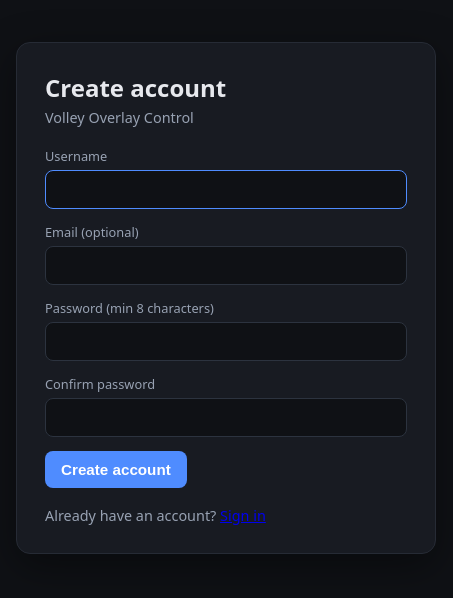
it: RegisterPage submit flows › shows the generic failure copy for other errors
Type " bob " into the field labelled "Username" at (226, 190), box [45,170,407,209]
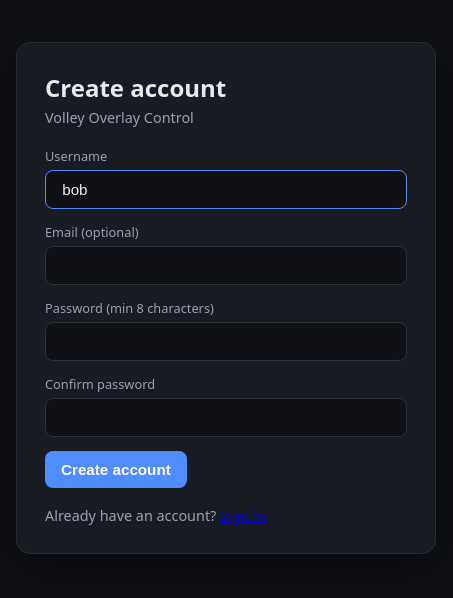
Type " bob@example.com " into the field labelled "Email (optional)" at (226, 266), box [45,246,407,285]
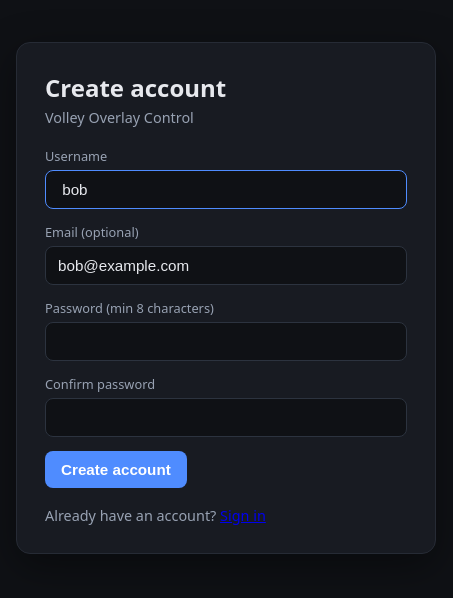
Type "secret123" into the password field labelled "Password (min 8 characters)" at (226, 342), box [45,322,407,361]
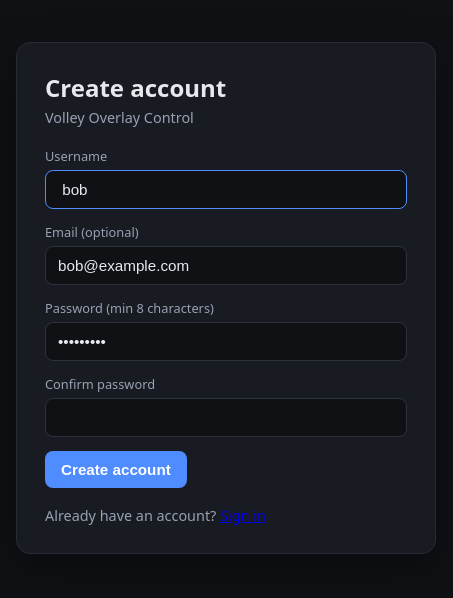
Type "secret123" into the password field labelled "Confirm password" at (226, 418), box [45,398,407,437]
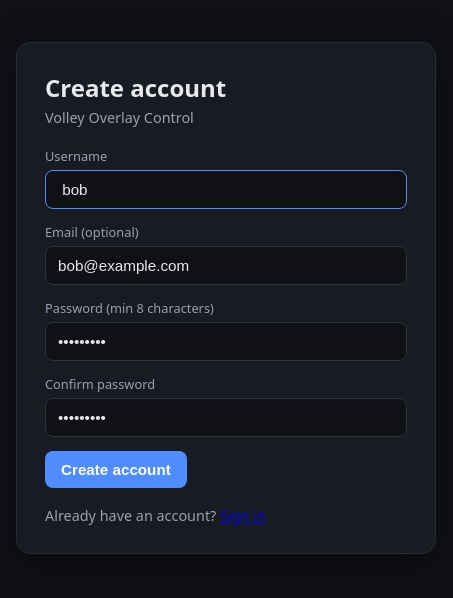
Click the button "Create account" at (116, 470), box [45,451,187,488]
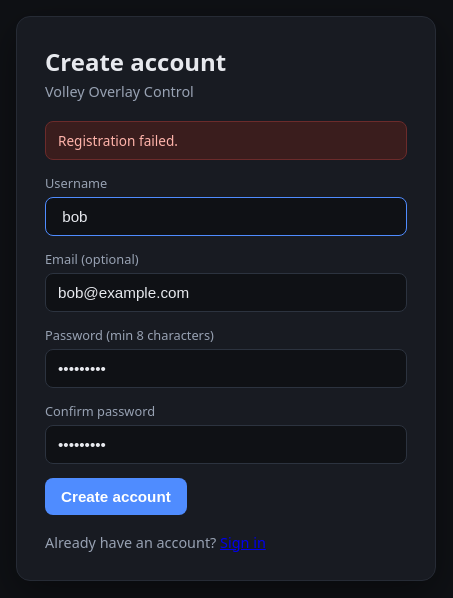
Result: the text "Registration failed." is shown at [45,120,407,160]
